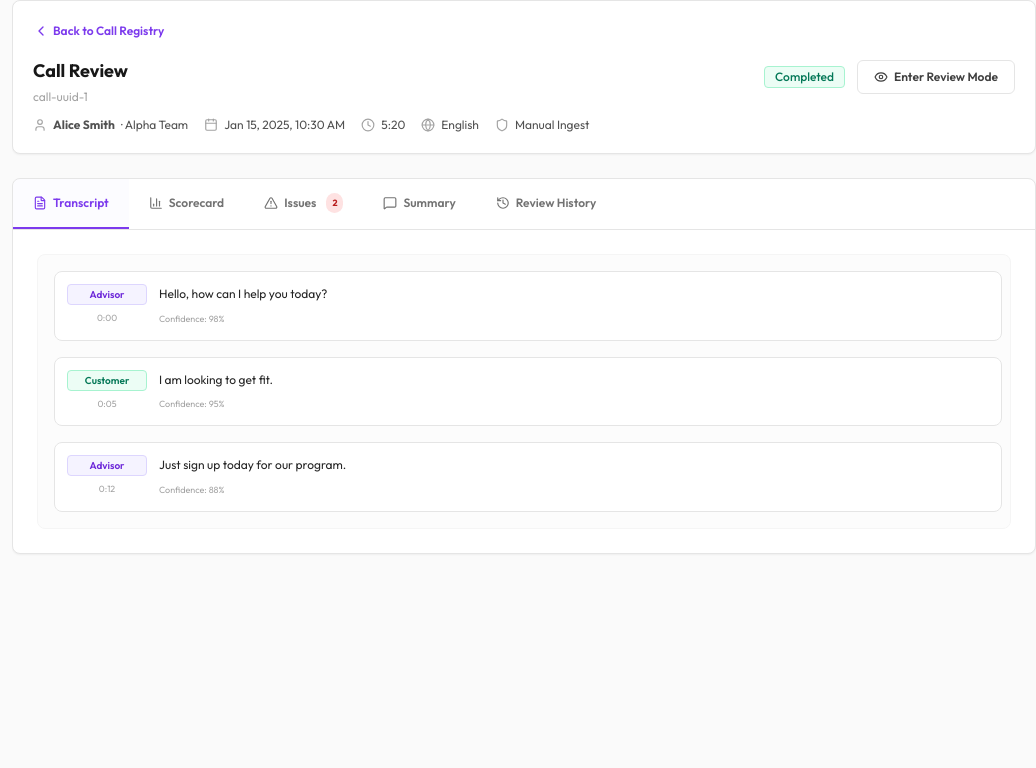
Phase 3 — Call Operations & Review Tests › 18. Issue evidence click switches to Transcript tab
Expected: the text "Alice Smith" is shown, [53,117,115,133]
Expected: the text "Hello, how can I help you today?" is shown, [159,286,327,301]
Note: Navigate to Issues tab
Click the button "Issues 2" at point(304, 204), box [244,179,364,229]
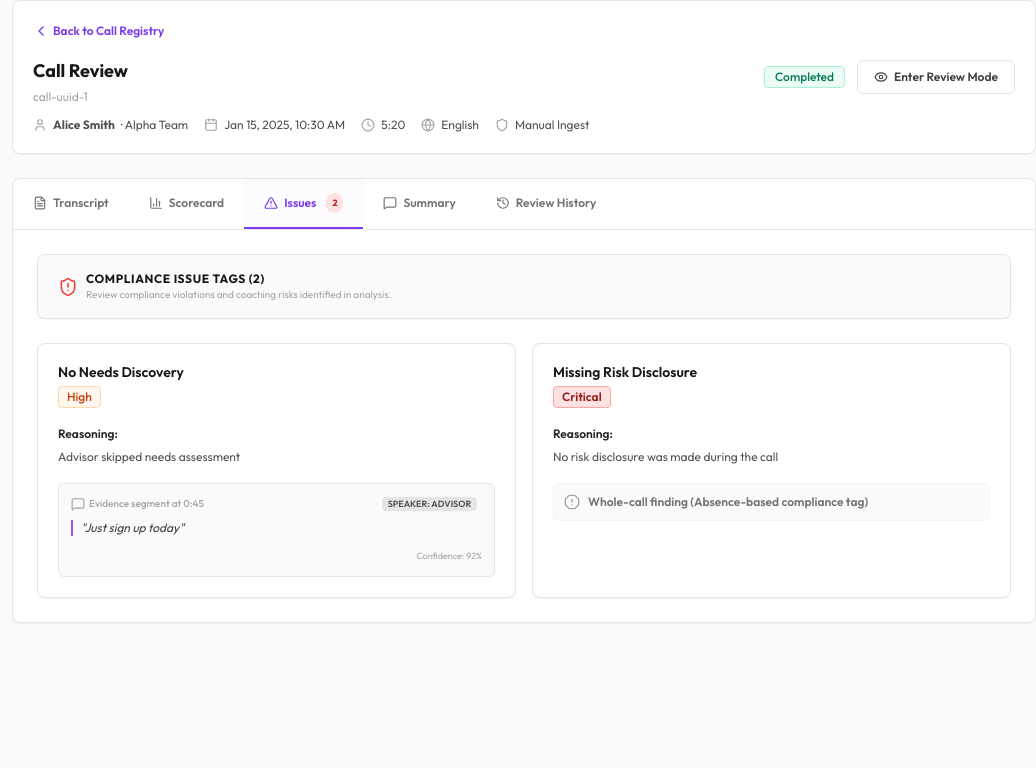
Now the heading "No Needs Discovery" is shown, box [58,364,184,382]
